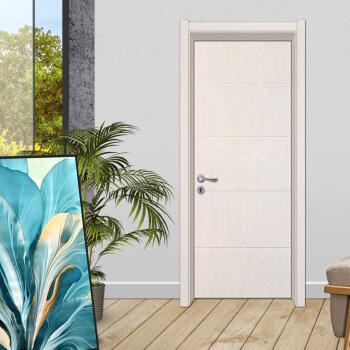door: (188, 35, 299, 297)
